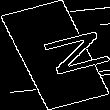N_W: (12, 28, 98, 82)
